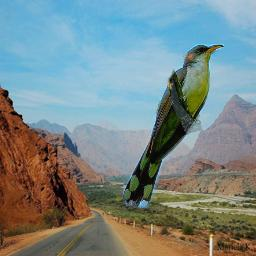Cuckoo: (123, 44, 224, 208)
